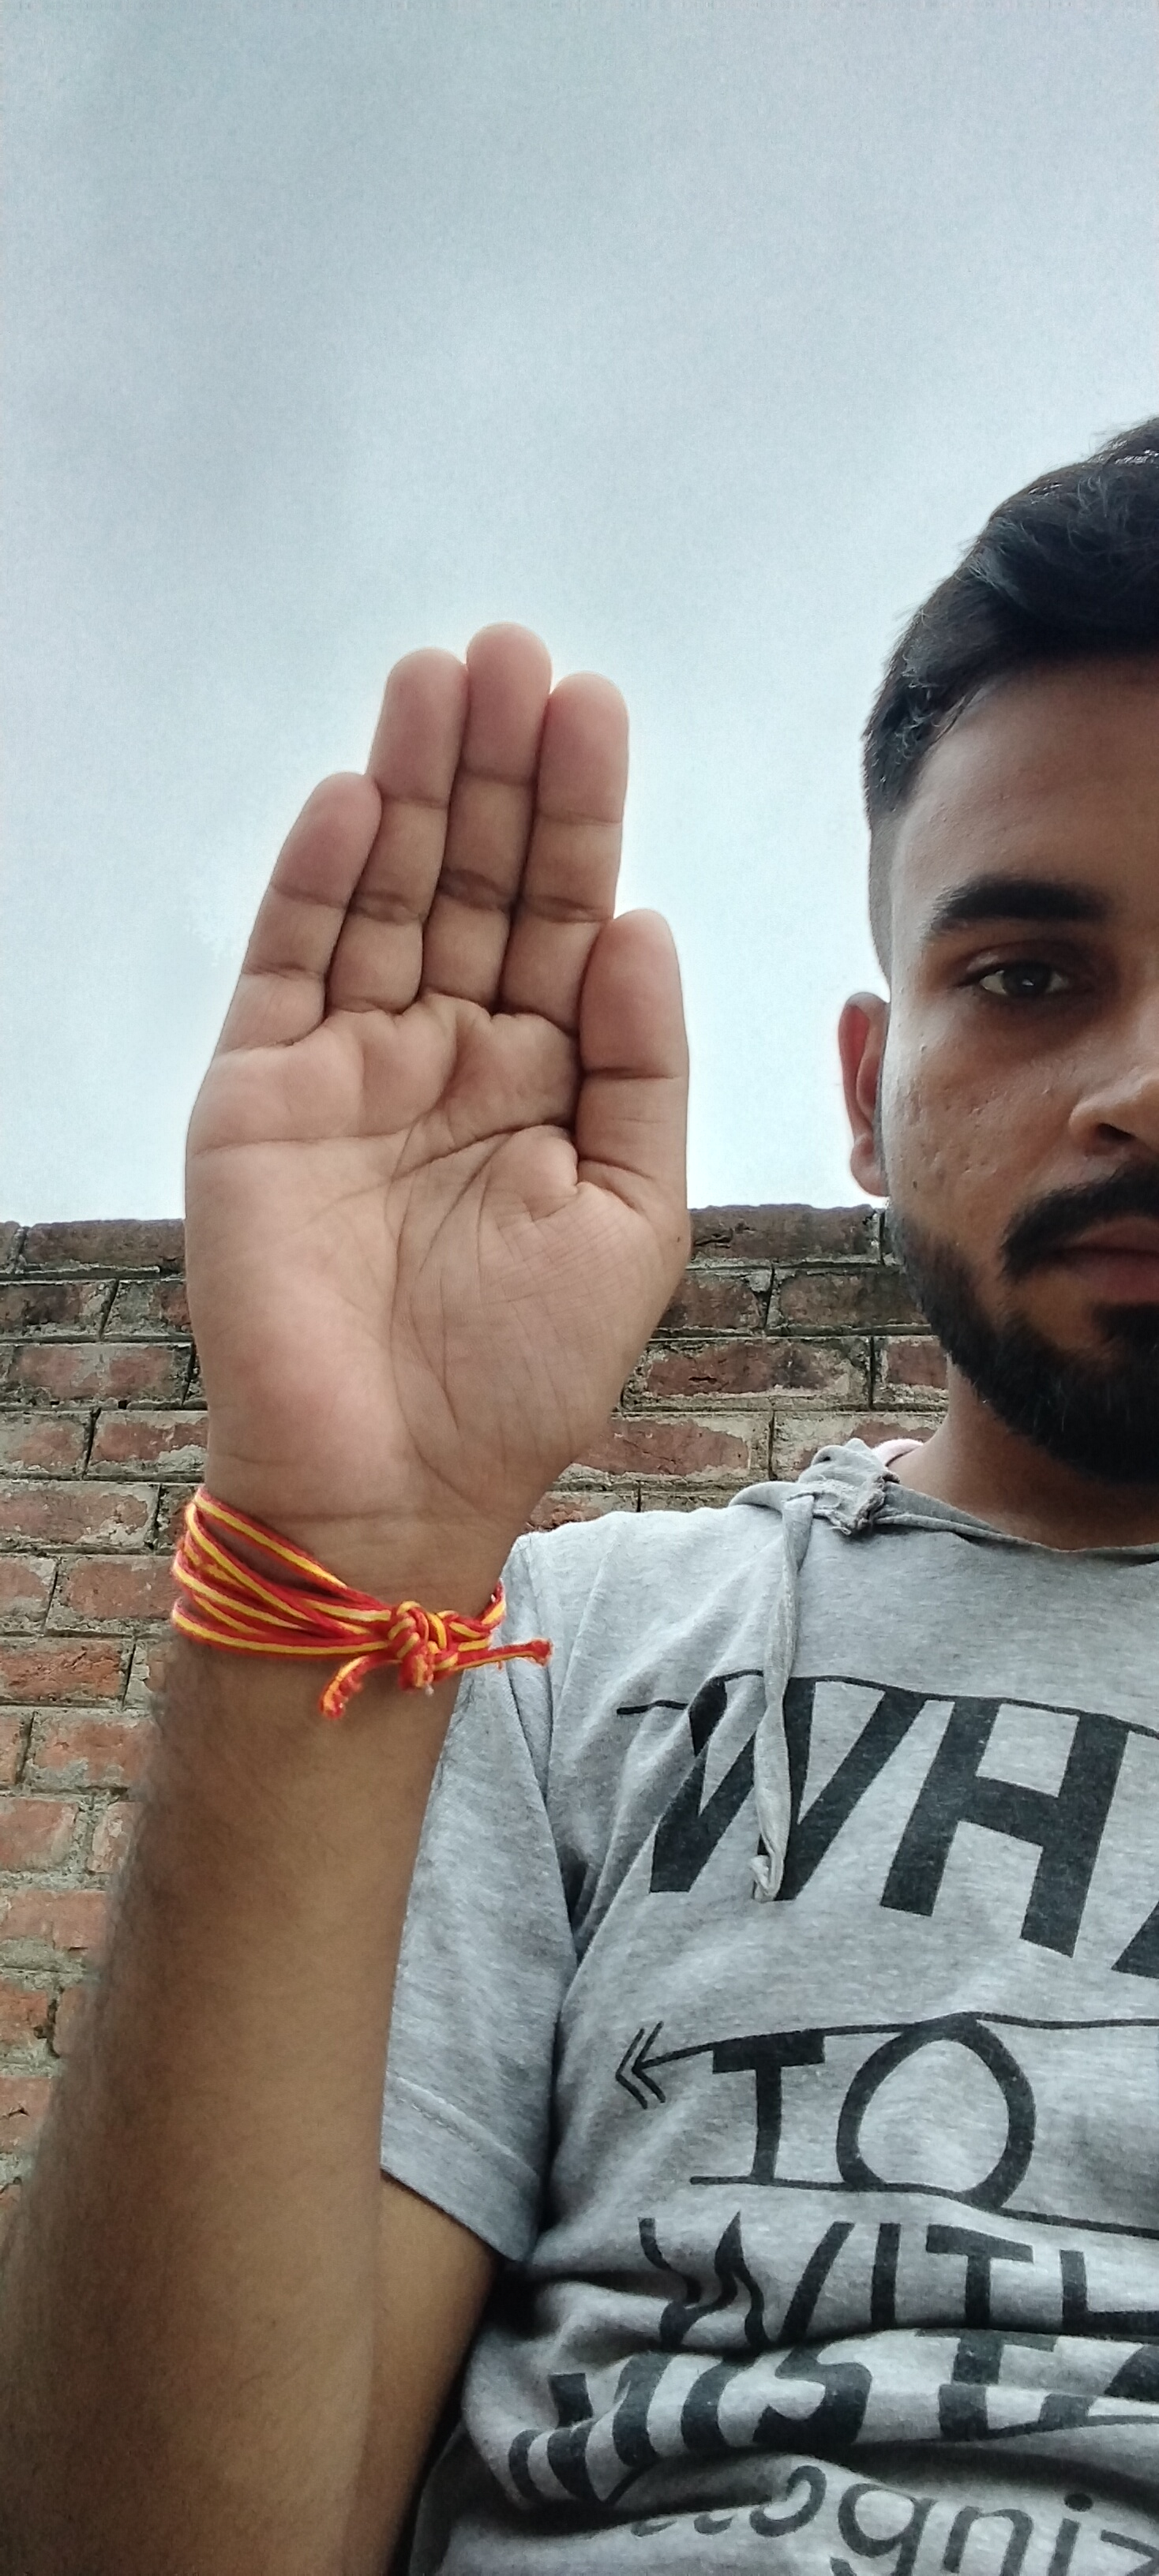Hello: (159, 616, 723, 1500)
